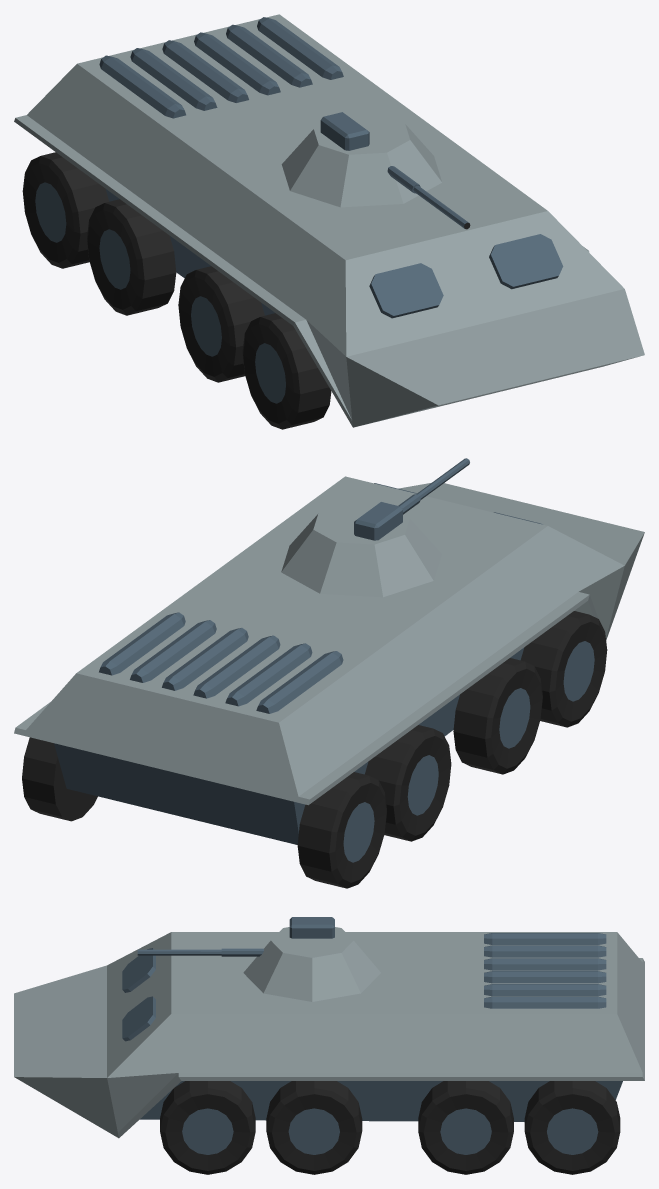
Rendered from IFV_Wheels_03.fbx.
The picture shows the model from 3 angles, top to bottom: view 1: azimuth 30°, elevation 25°; view 2: azimuth 150°, elevation 25°; view 3: azimuth 270°, elevation 25°; orthographic projection. The views are drawn at different scales.
Visible parts, largest first — view 1: IFV_Wheels_03, IFV_Wheels_03_Turret, IFV_Wheels_03_Barrel; view 2: IFV_Wheels_03, IFV_Wheels_03_Turret, IFV_Wheels_03_Barrel; view 3: IFV_Wheels_03, IFV_Wheels_03_Turret, IFV_Wheels_03_Barrel.
Part boxes in pixels (left/top/right/bottom): IFV_Wheels_03: left=14, top=14, right=644, bottom=429; IFV_Wheels_03_Turret: left=281, top=112, right=442, bottom=207; IFV_Wheels_03_Barrel: left=387, top=166, right=470, bottom=229; IFV_Wheels_03: left=14, top=476, right=644, bottom=888; IFV_Wheels_03_Turret: left=281, top=502, right=441, bottom=597; IFV_Wheels_03_Barrel: left=398, top=458, right=469, bottom=514; IFV_Wheels_03: left=14, top=932, right=644, bottom=1174; IFV_Wheels_03_Turret: left=243, top=917, right=380, bottom=1001; IFV_Wheels_03_Barrel: left=137, top=948, right=263, bottom=956.
Size of the model in its own units: 5.65 by 3.85 by 11.92.
